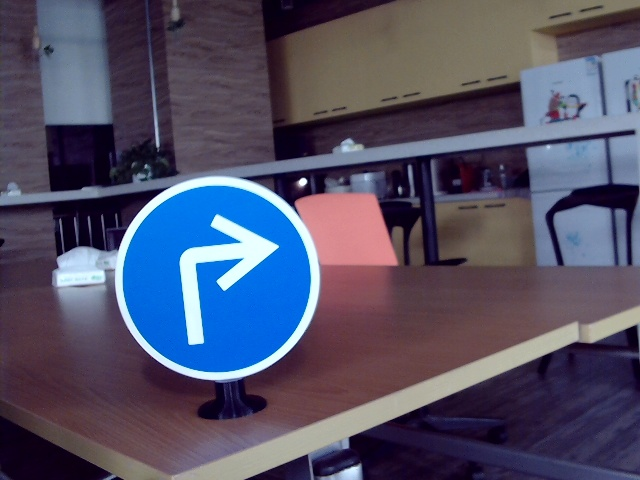turn_right: (159, 218, 279, 349)
